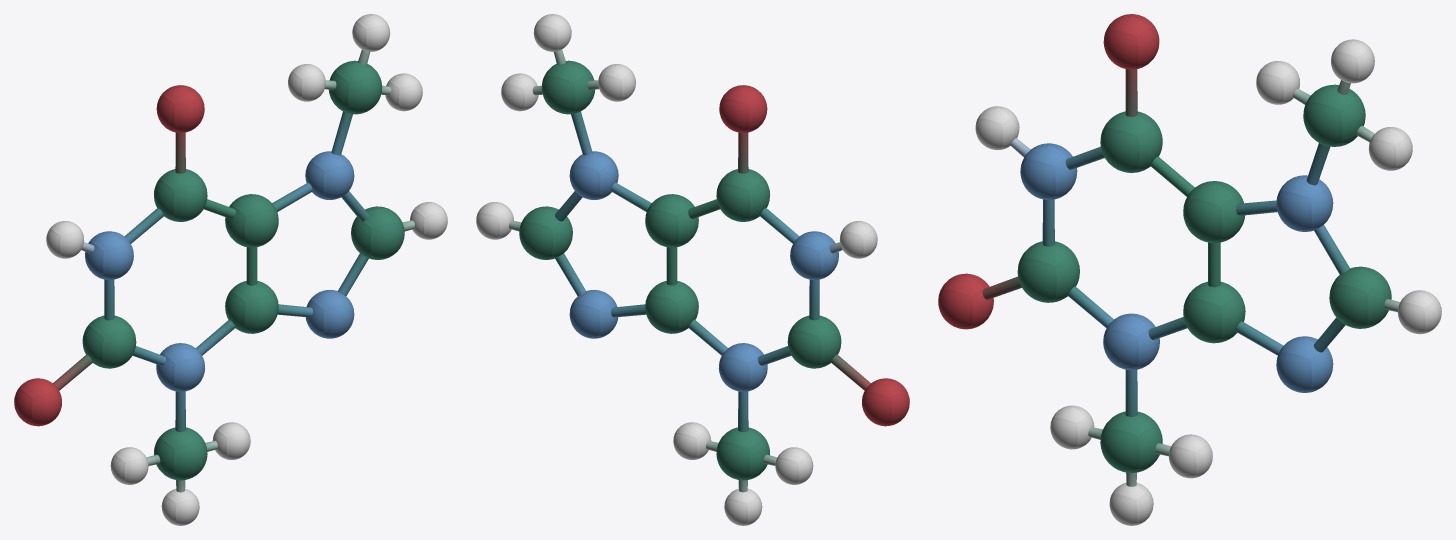
File: Theobromine.fbx
The picture shows the model from 3 angles, left to right: view 1: azimuth 30°, elevation 25°; view 2: azimuth 150°, elevation 25°; view 3: azimuth 330°, elevation 25°; orthographic projection. The views are drawn at different scales.
Parts seen in each view (by area): view 1: curMeshHyperballExportedMesh; view 2: curMeshHyperballExportedMesh; view 3: curMeshHyperballExportedMesh.
Part boxes in pixels (box(x1,y1,x2,y2)): curMeshHyperballExportedMesh: box(14, 14, 447, 525); curMeshHyperballExportedMesh: box(476, 14, 909, 525); curMeshHyperballExportedMesh: box(938, 14, 1441, 525).
Size of the model in its own units: 5.2 by 5.36 by 0.5667.
